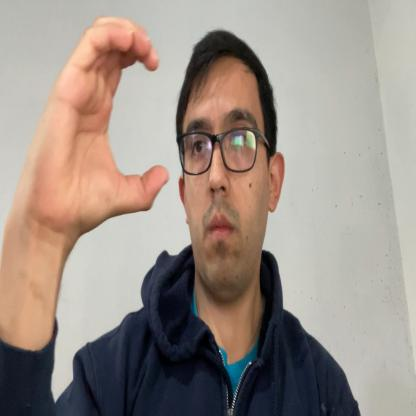C: (44, 15, 170, 232)
